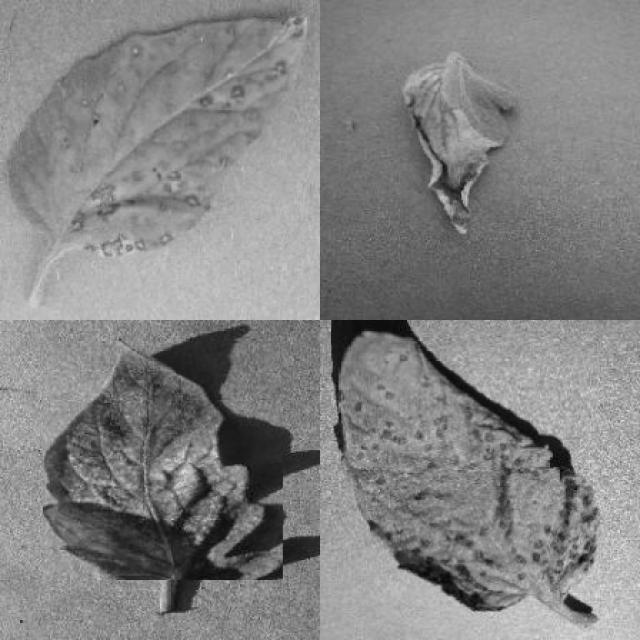Late Blight: (400, 59, 520, 234)
Septoria: (340, 328, 600, 612), (7, 17, 307, 260)
Spider Mites: (43, 340, 283, 580)
